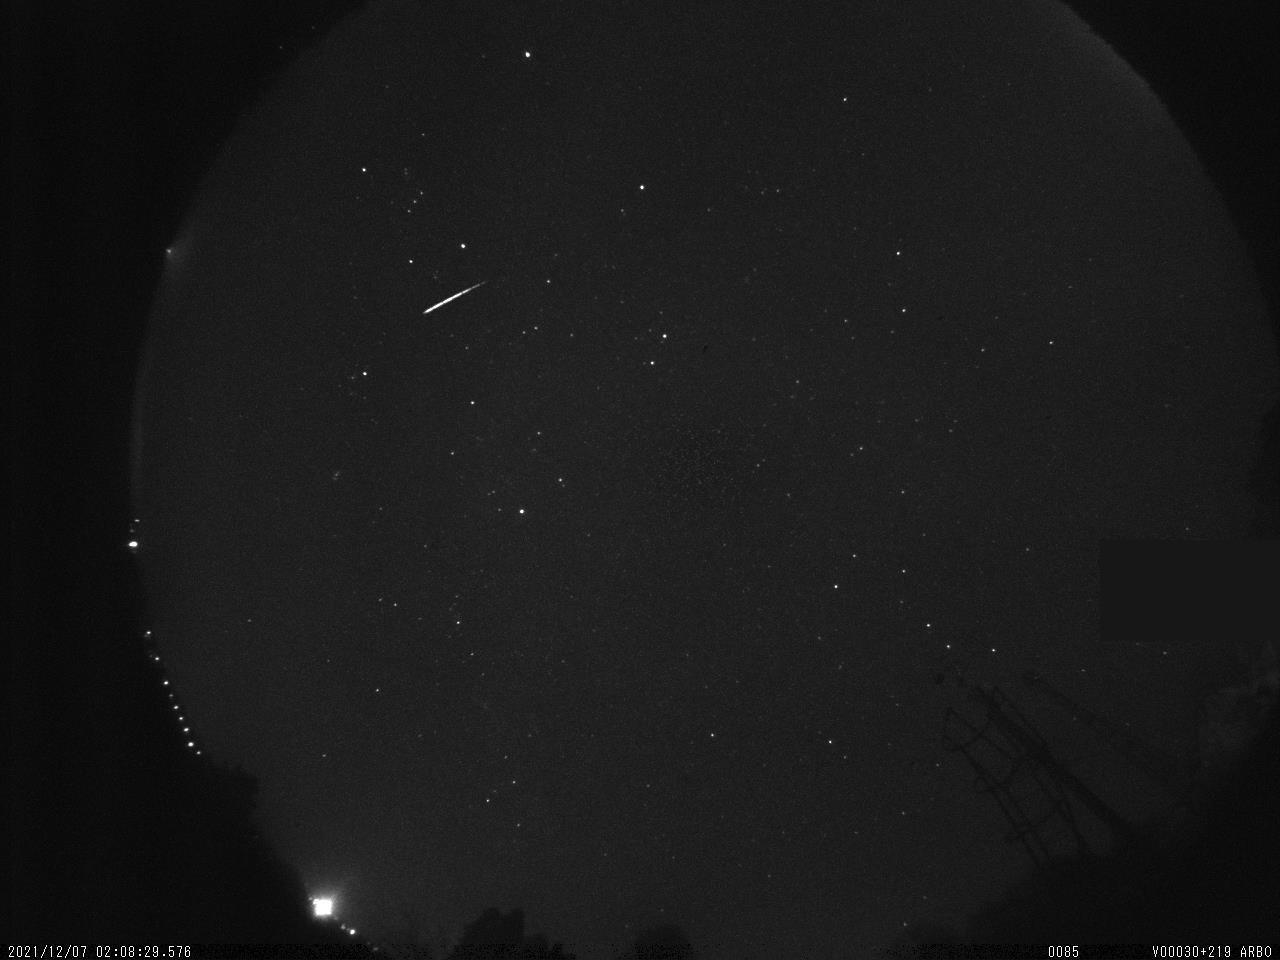meteor: (387, 265, 503, 331)
